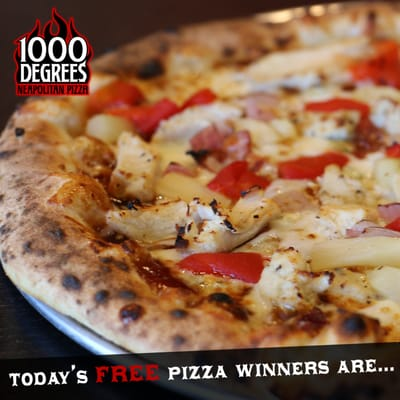sandwich: (0, 17, 399, 354)
